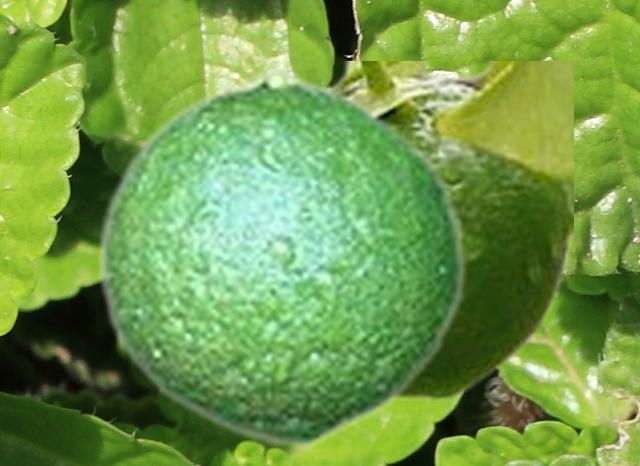dalandan: (94, 64, 466, 448), (327, 61, 572, 399)
